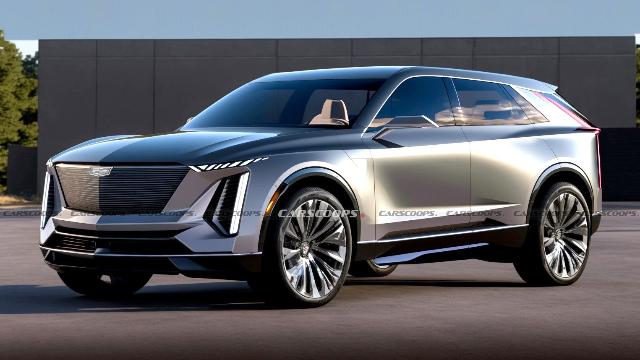cadillac: (39, 65, 602, 307)
